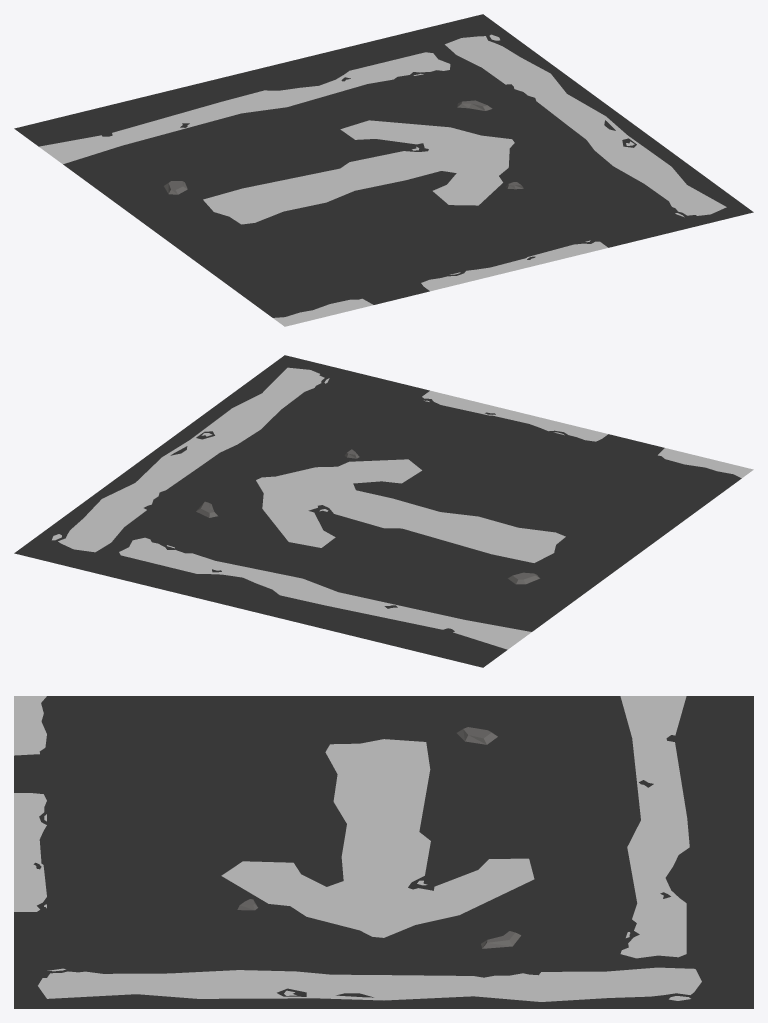
The model's file is Asphalt_08.FBX.
The picture shows the model from 3 angles, top to bottom: view 1: azimuth 30°, elevation 25°; view 2: azimuth 150°, elevation 25°; view 3: azimuth 270°, elevation 25°; orthographic projection. The views are drawn at different scales.
Parts seen in each view (by area): view 1: Asphalt_08; view 2: Asphalt_08; view 3: Asphalt_08.
Boxes of the visible parts, <box> form: Asphalt_08: <box>14,14,753,326</box>; Asphalt_08: <box>14,355,753,667</box>; Asphalt_08: <box>14,696,753,1008</box>.
Bounding box in the file's own units: 5 × 0.03 × 5.
